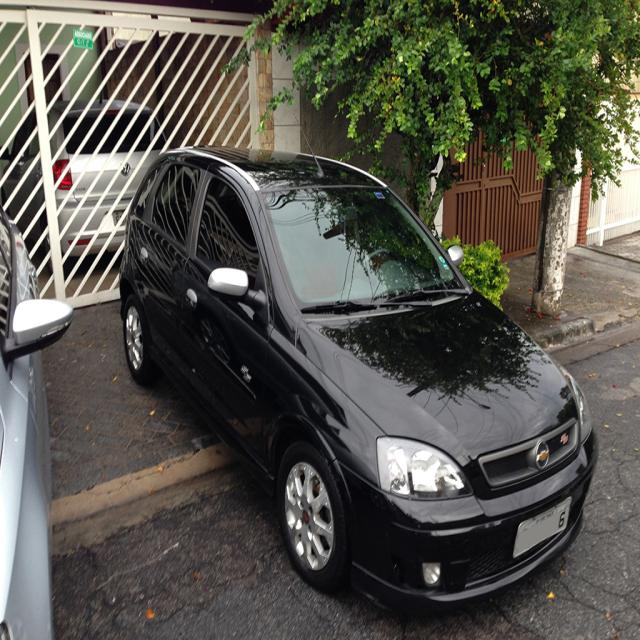car: (116, 112, 600, 611)
